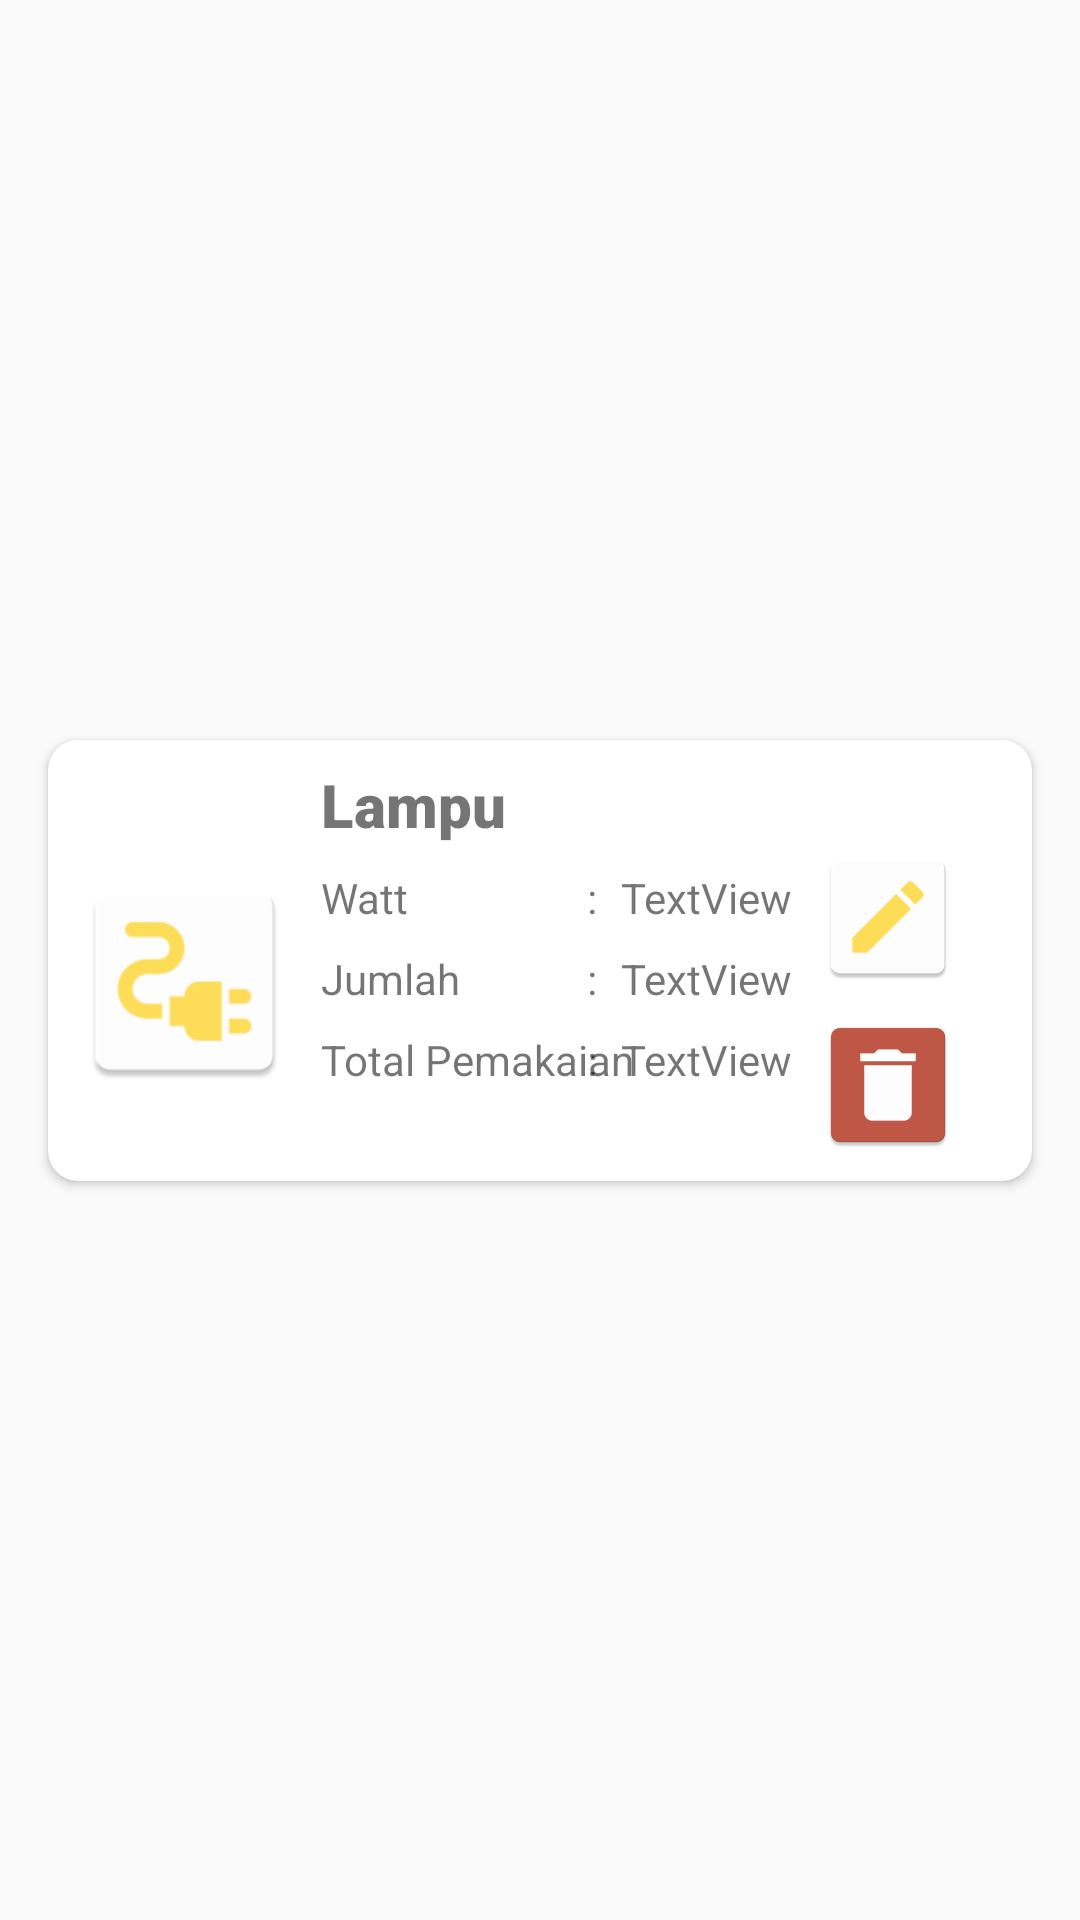

Named icons in this screenshot (1080 x 1920) and their bounding boxes, [x1,y1,x2,y2]:
delete: [830,1028,946,1146]
edit: [831,866,946,978]
electric: [95,902,275,1076]
